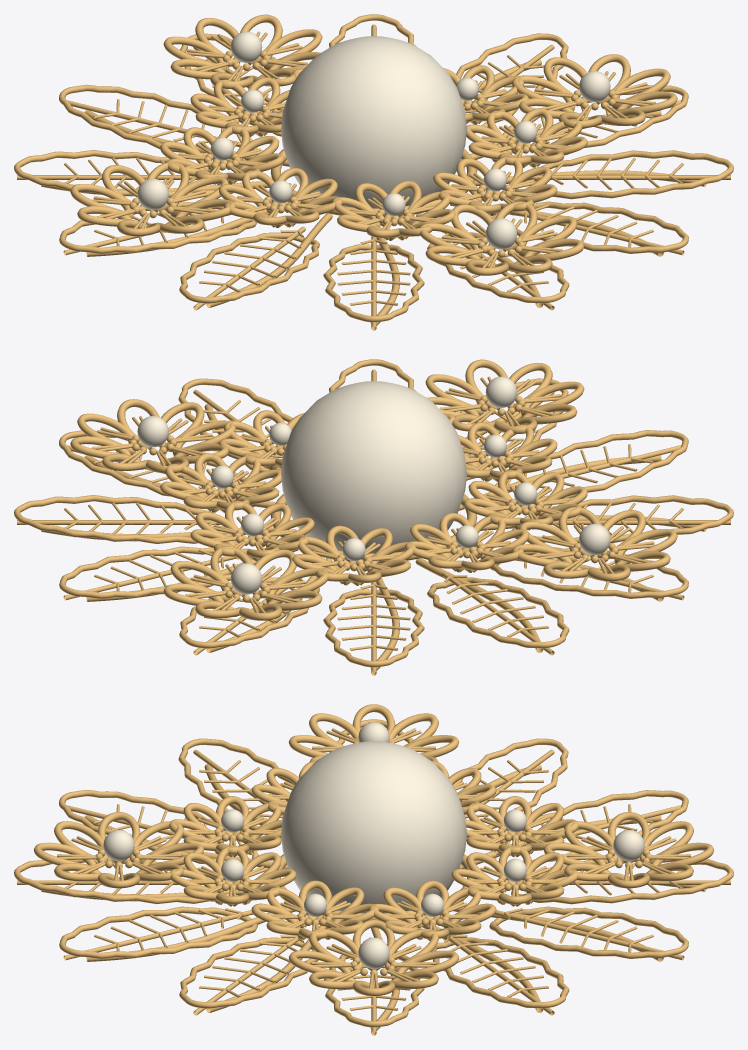
Rendered from jewel.glb.
3 renders of one model, top to bottom at view 1: azimuth 30°, elevation 25°; view 2: azimuth 150°, elevation 25°; view 3: azimuth 270°, elevation 25°, orthographic.
Visible parts, largest first — view 1: jewel craftwork; view 2: jewel craftwork; view 3: jewel craftwork.
Part boxes in pixels (x1,y1,x2,y2): jewel craftwork: [14, 14, 733, 330]; jewel craftwork: [14, 359, 733, 675]; jewel craftwork: [14, 704, 733, 1035].
Bounding box in the file's own units: 0.5648 × 0.146 × 0.5648.
